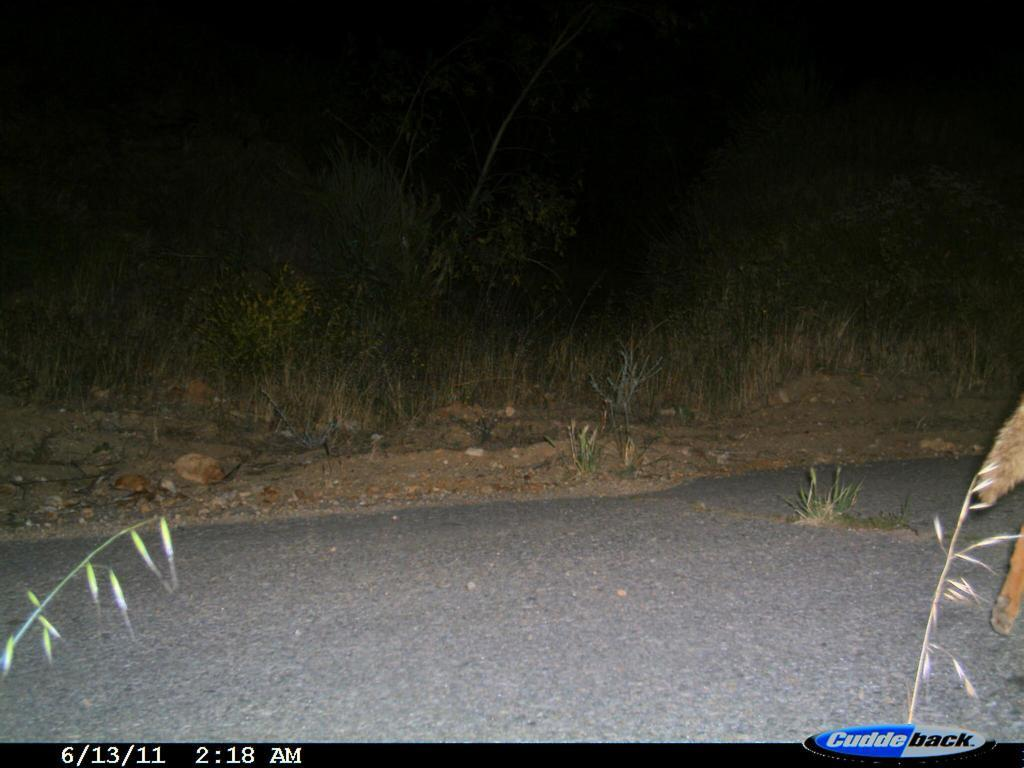coyote: (961, 383, 1021, 651)
